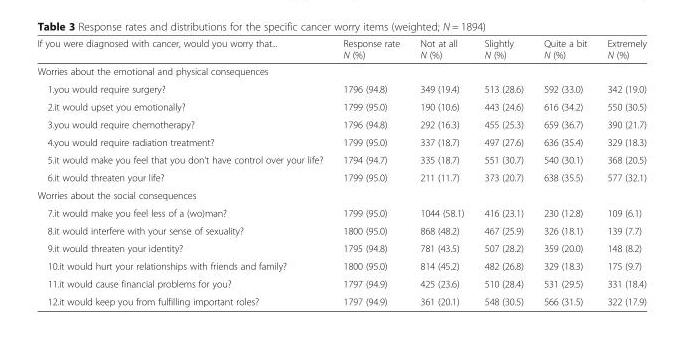table: (36, 37, 645, 306)
table column: (36, 37, 332, 306), (332, 37, 409, 306), (409, 37, 473, 306), (532, 37, 596, 306), (473, 37, 532, 306), (596, 37, 645, 306)
table column header: (36, 37, 645, 62)
table projected row header: (36, 62, 645, 79), (36, 186, 645, 203)
table row: (36, 37, 645, 62), (36, 79, 645, 97), (36, 97, 645, 115), (36, 132, 645, 150), (36, 150, 645, 168), (36, 168, 645, 186), (36, 203, 645, 221), (36, 221, 645, 239), (36, 256, 645, 274), (36, 274, 645, 292), (36, 62, 645, 79), (36, 115, 645, 132), (36, 186, 645, 203), (36, 239, 645, 256), (36, 292, 645, 306)
